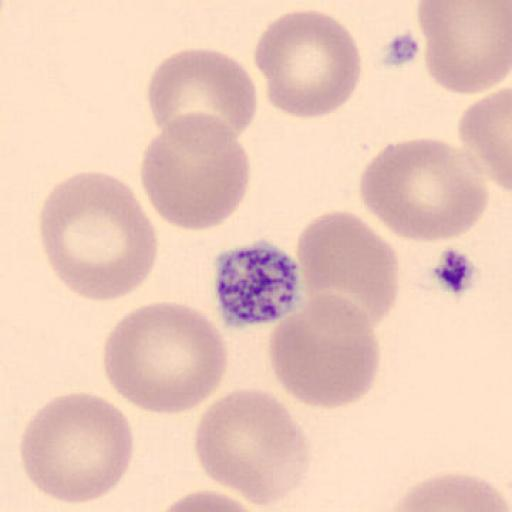Platelet: (212, 237, 307, 329)
RBC: (37, 169, 159, 304), (101, 300, 229, 417), (192, 386, 313, 508), (357, 137, 491, 244), (139, 110, 252, 231), (267, 292, 382, 410), (17, 391, 135, 505), (293, 207, 400, 329), (252, 8, 362, 120), (146, 46, 260, 144), (415, 0, 512, 96), (458, 84, 512, 194), (382, 471, 510, 512), (161, 478, 276, 512), (157, 488, 263, 512)
